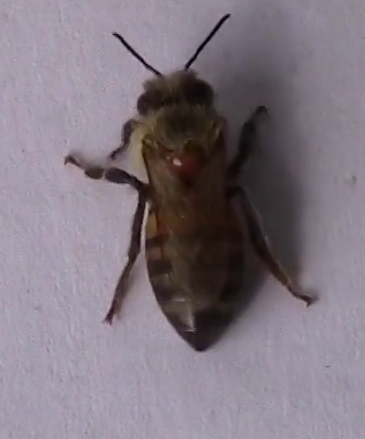Varroa destructor: (165, 149, 203, 183)
